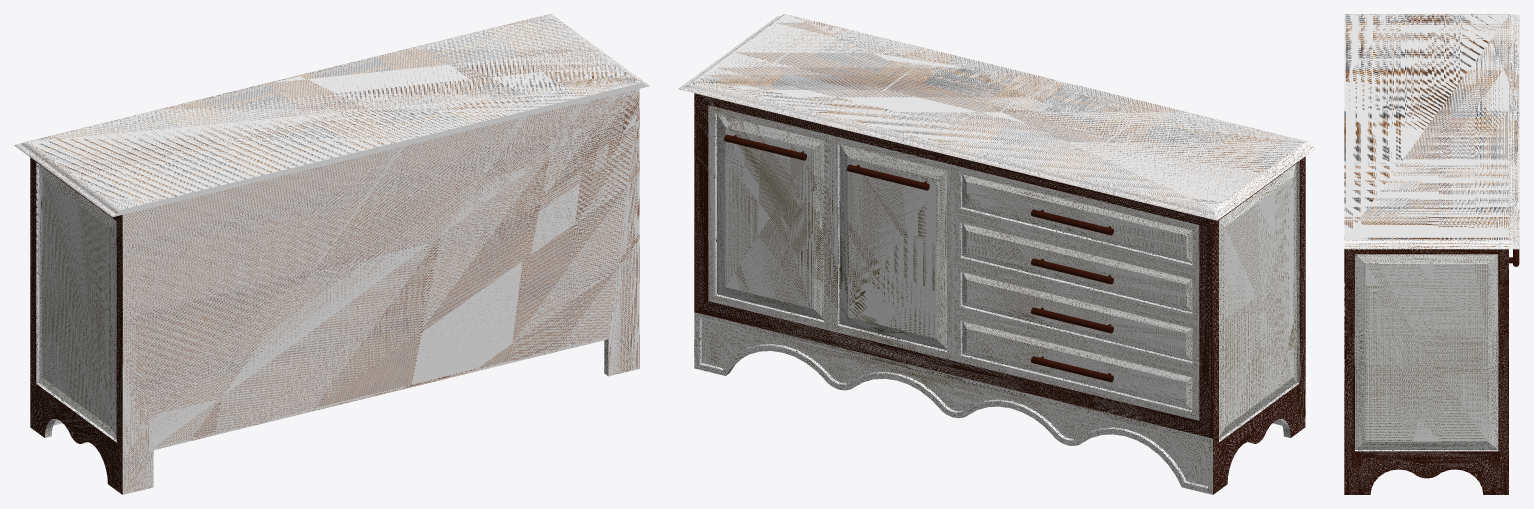
The picture shows the model from 3 angles, left to right: view 1: azimuth 30°, elevation 25°; view 2: azimuth 150°, elevation 25°; view 3: azimuth 270°, elevation 25°; orthographic projection. The views are drawn at different scales.
Visible parts, largest first — view 1: mesh43_mesh43-geometry; view 2: mesh43_mesh43-geometry; view 3: mesh43_mesh43-geometry.
Part boxes in pixels (x1,y1,x2,y2): mesh43_mesh43-geometry: (14, 14, 649, 494); mesh43_mesh43-geometry: (678, 14, 1315, 494); mesh43_mesh43-geometry: (1344, 14, 1519, 494).
Bounding box in the file's own units: 0.8582 × 0.4357 × 0.2715.
